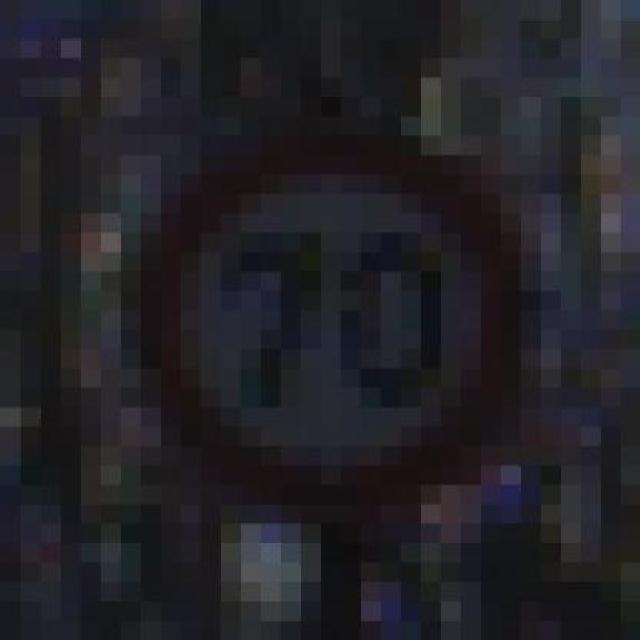forb_speed_over_70: (139, 140, 526, 509)
